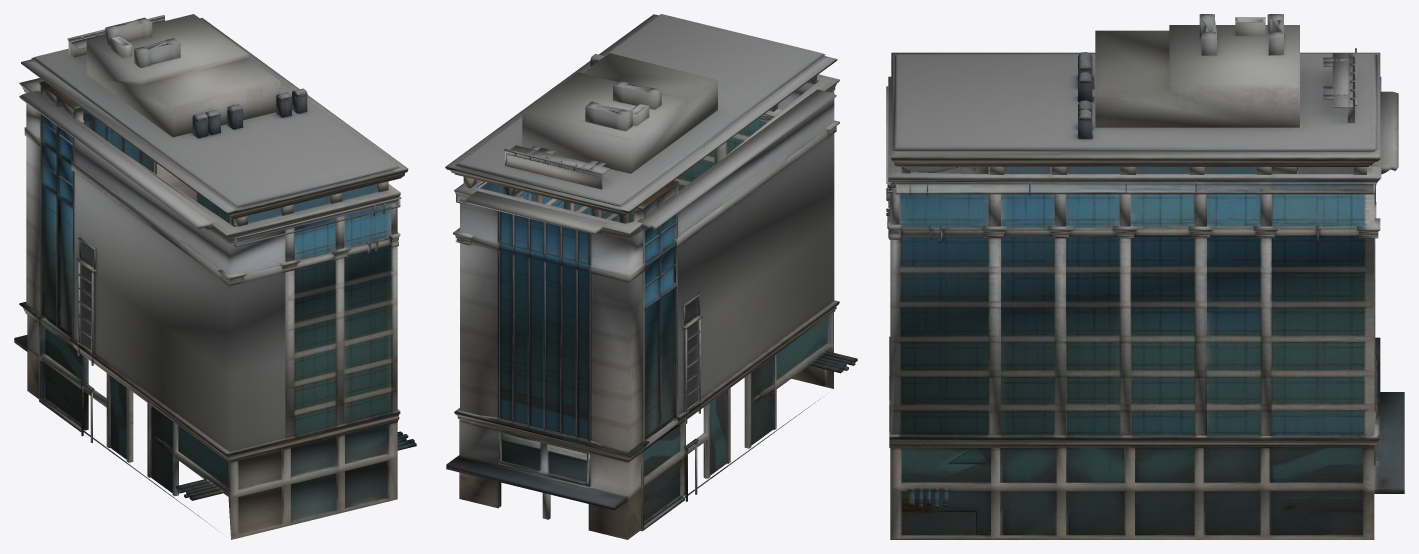
File: building.glb
3 renders of one model, left to right at view 1: azimuth 30°, elevation 25°; view 2: azimuth 150°, elevation 25°; view 3: azimuth 270°, elevation 25°, orthographic. The views are drawn at different scales.
Visible parts, largest first — view 1: tripo_node_acfd26d0-1c28-4b8f-87ca-43c23a19211d; view 2: tripo_node_acfd26d0-1c28-4b8f-87ca-43c23a19211d; view 3: tripo_node_acfd26d0-1c28-4b8f-87ca-43c23a19211d.
Part boxes in pixels (left/top/right/bottom): tripo_node_acfd26d0-1c28-4b8f-87ca-43c23a19211d: left=14, top=14, right=416, bottom=539; tripo_node_acfd26d0-1c28-4b8f-87ca-43c23a19211d: left=445, top=14, right=857, bottom=539; tripo_node_acfd26d0-1c28-4b8f-87ca-43c23a19211d: left=886, top=14, right=1404, bottom=539.
Size of the model in its own units: 24.87 by 40 by 41.13.
1 material, 1 textured.
